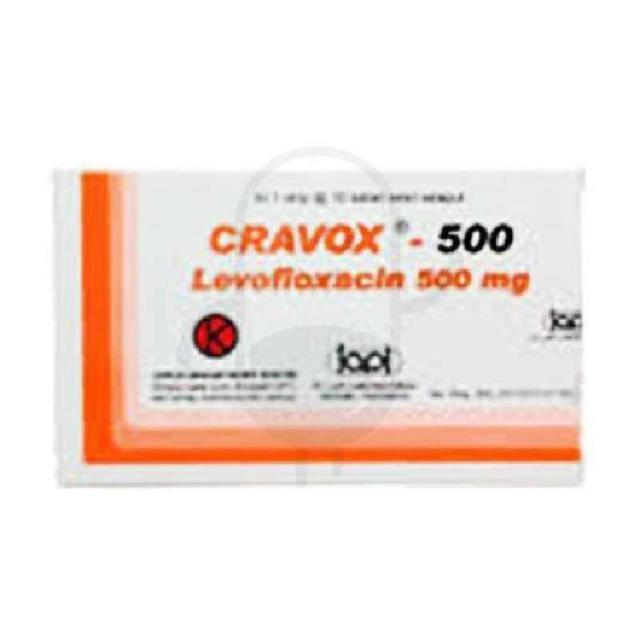drug-name: (209, 218, 518, 256)
